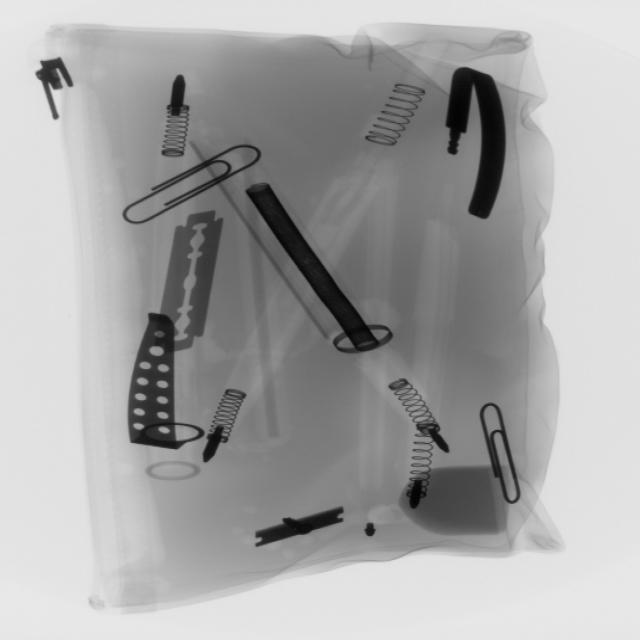BLADE: (153, 200, 228, 361)
